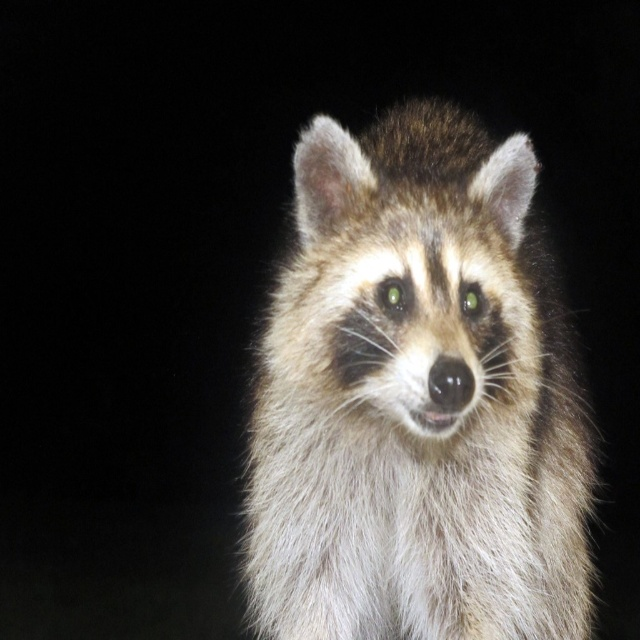Raccoon: (238, 94, 613, 639)
